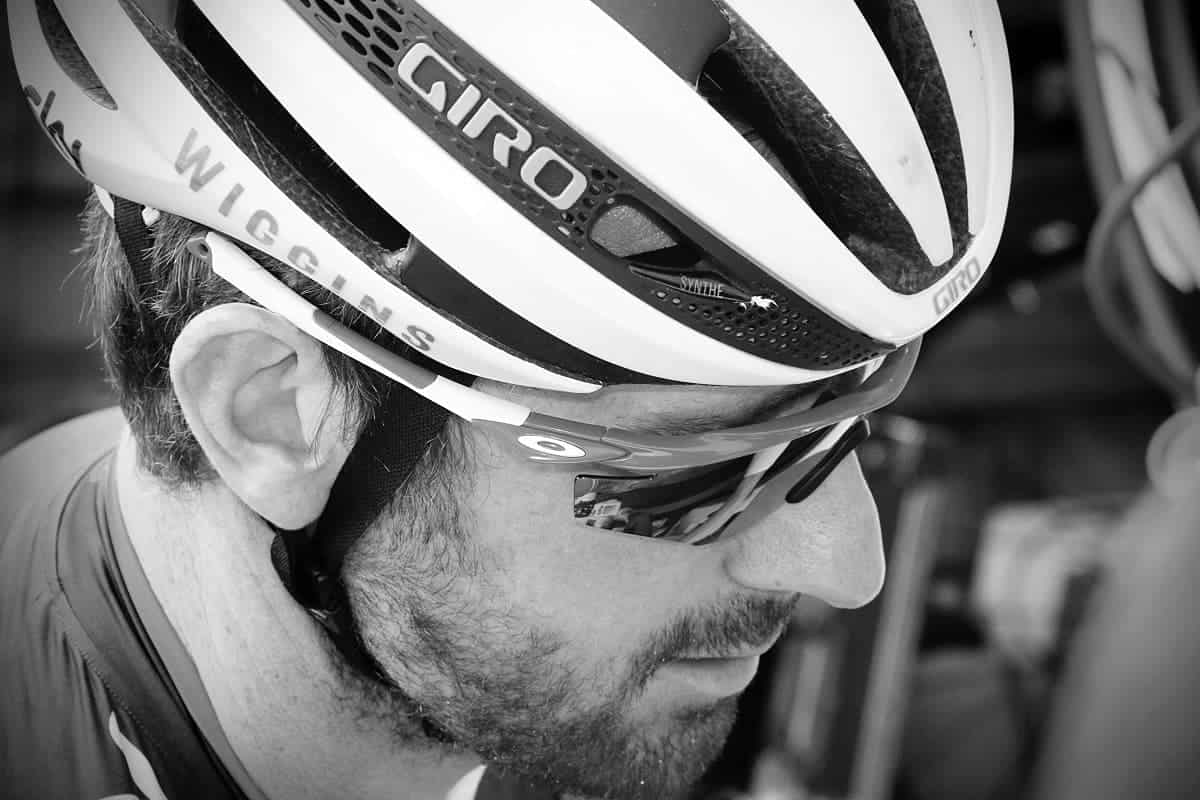helmet: (6, 1, 1014, 800)
